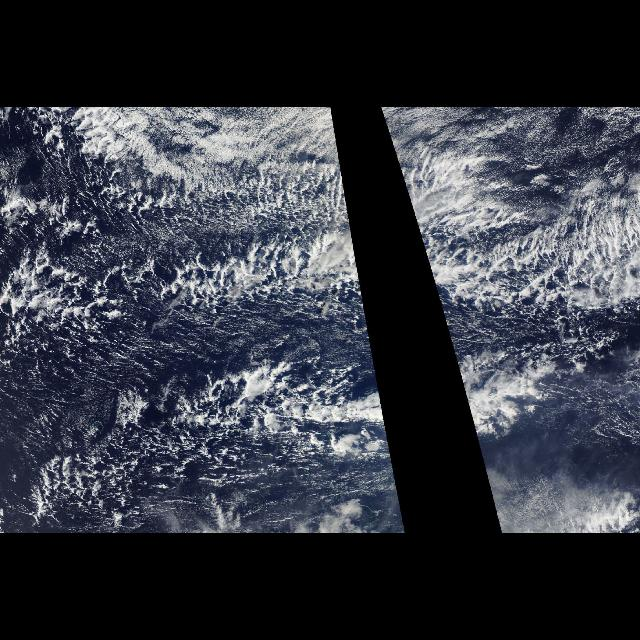Fish: (10, 206, 402, 512), (410, 206, 636, 512)
Gravel: (94, 174, 376, 370), (402, 173, 458, 363)
Sugar: (5, 342, 129, 466), (380, 110, 636, 166), (151, 318, 375, 358), (203, 110, 341, 166), (442, 318, 552, 358)
